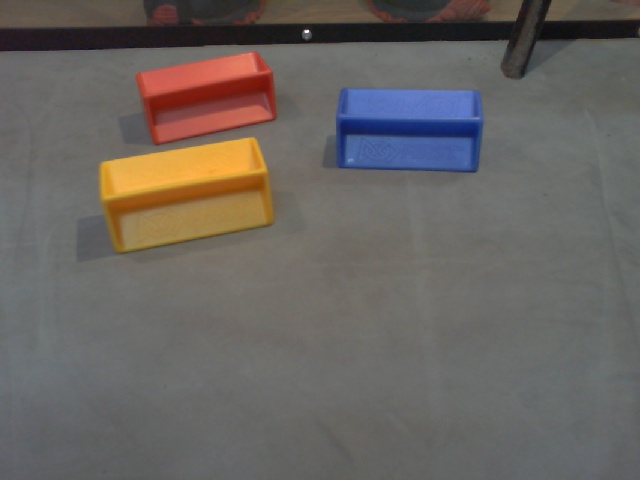BlueSample: (333, 82, 488, 182)
RedSample: (129, 49, 283, 147)
YellowSample: (94, 135, 280, 256)
